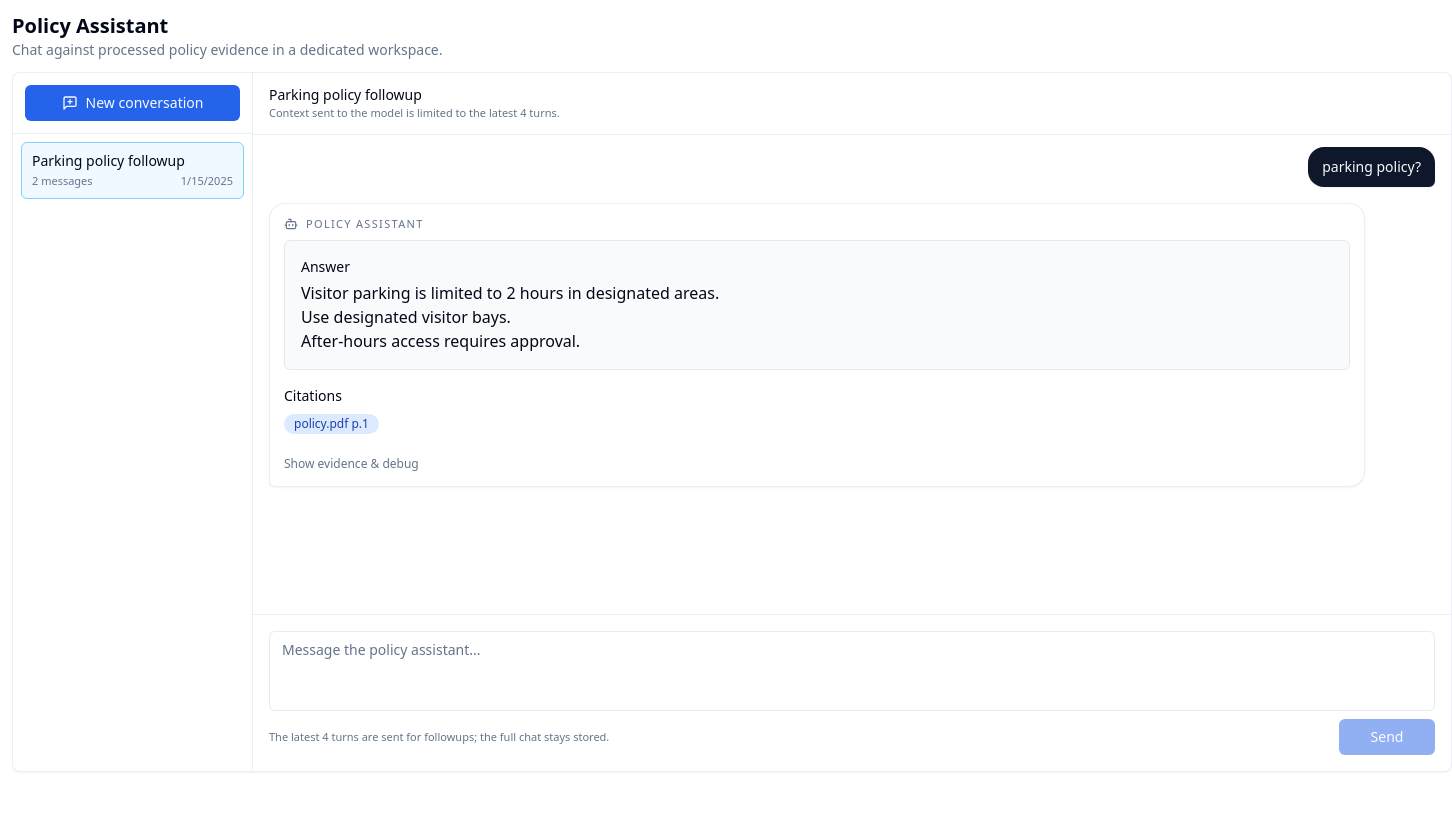
Scenario: Policy Q&A › shows evidence and debug panel when toggled
Click the button "Parking policy followup 2 messages 1/15/2025" at (132, 170), box [21,142,244,198]
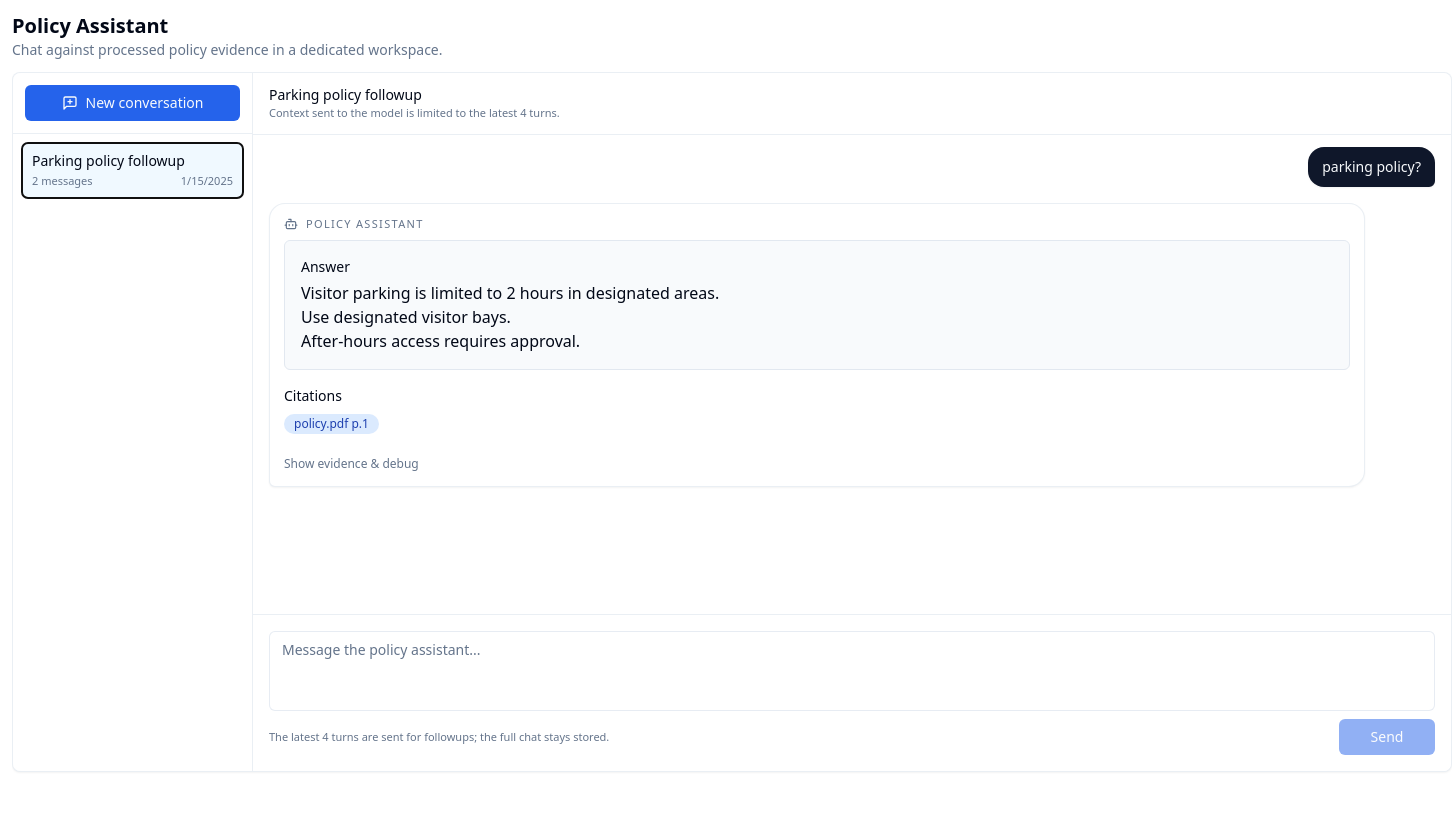
expect the text "Visitor parking is limited to 2 hours in designated areas." is shown: met, box [301,282,719,304]
Click the button "Show evidence & debug" at (351, 464), box [284,456,419,472]
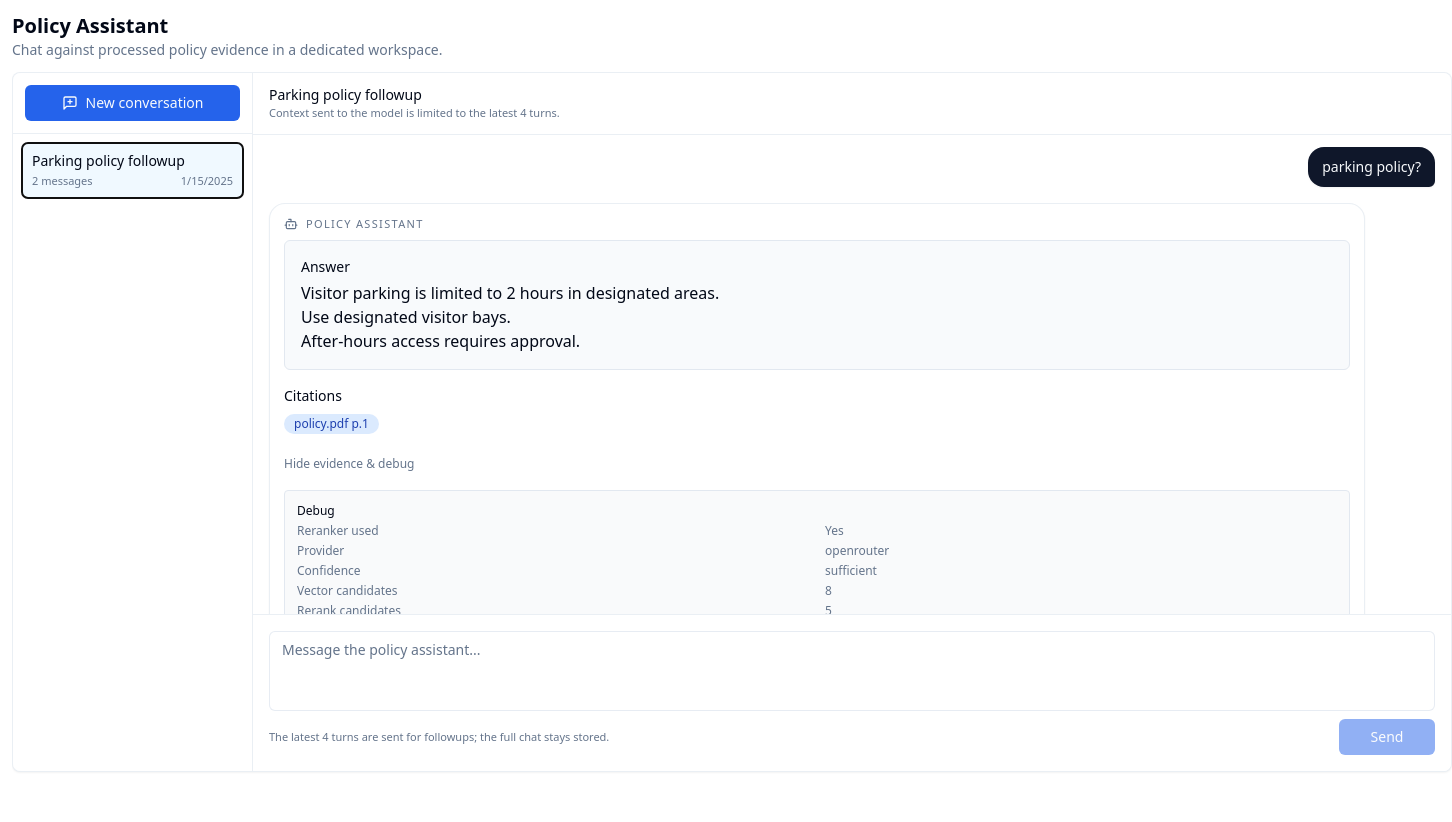
expect the text "Debug" is shown: met, box [297,502,335,519]
